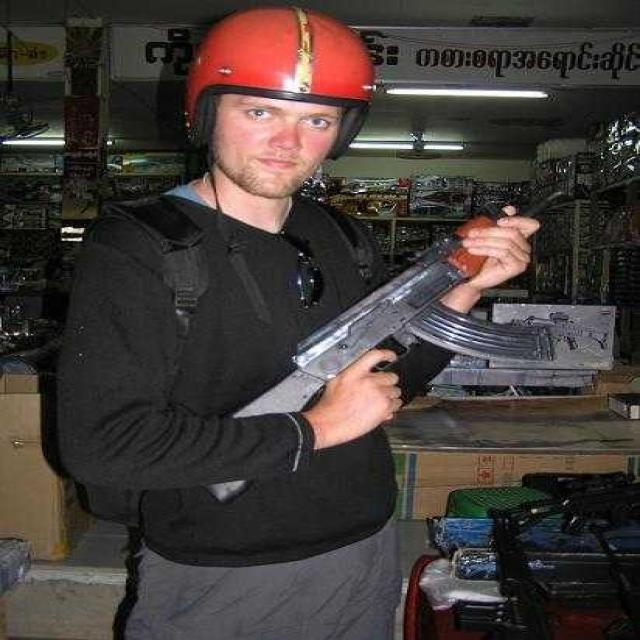heavyweapon: (203, 181, 571, 509)
